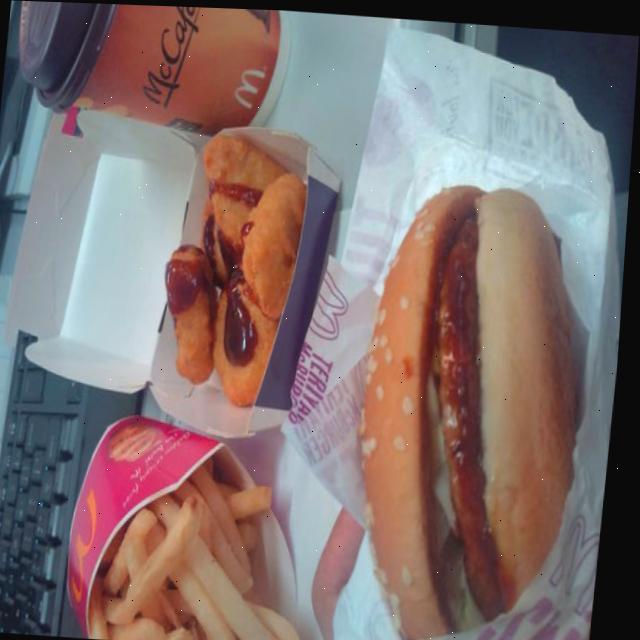汉堡快餐: (320, 150, 619, 640)
炸货点心: (87, 460, 347, 640)
